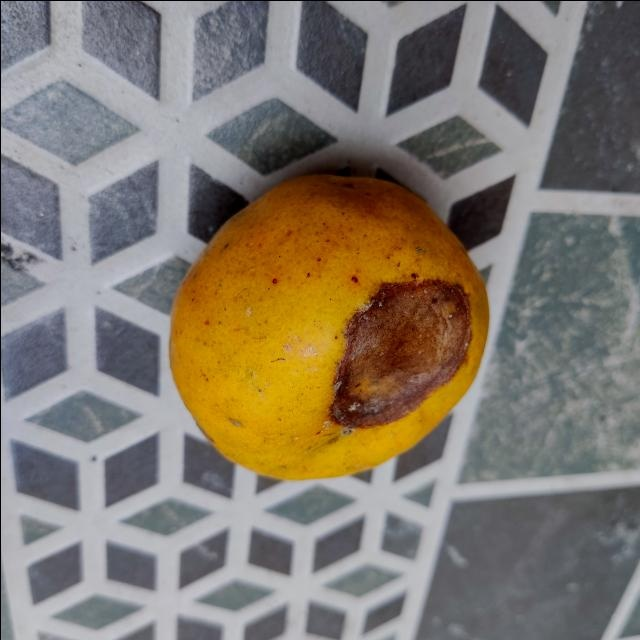agrume: (165, 172, 487, 480)
